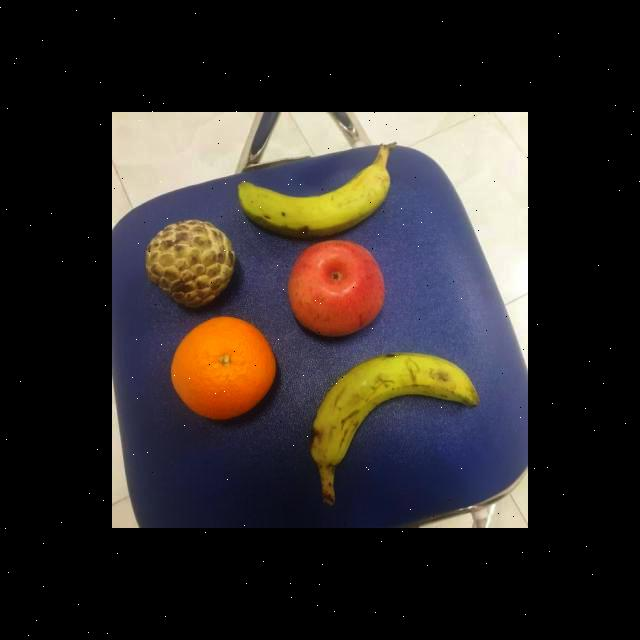Sakya fruit: (142, 217, 238, 308)
apple: (286, 238, 388, 338)
banana: (309, 348, 481, 480), (237, 142, 393, 238)
orange: (168, 314, 278, 420)
